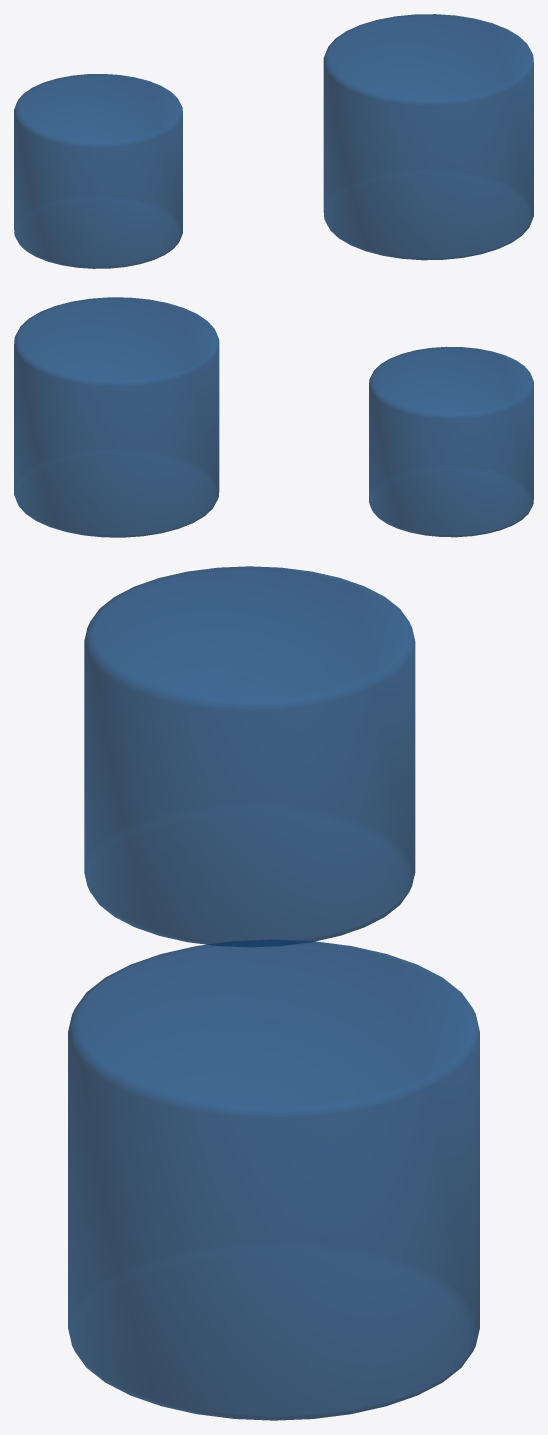
Rendered from 1_solution.obj.
3 views of the same model, one above another, from view 1: azimuth 30°, elevation 25°; view 2: azimuth 150°, elevation 25°; view 3: azimuth 270°, elevation 25° (orthographic). The views are drawn at different scales.
Size of the model in its own units: 1.4 by 0.525 by 0.51.
Materials: 1 (1 with a texture image).
